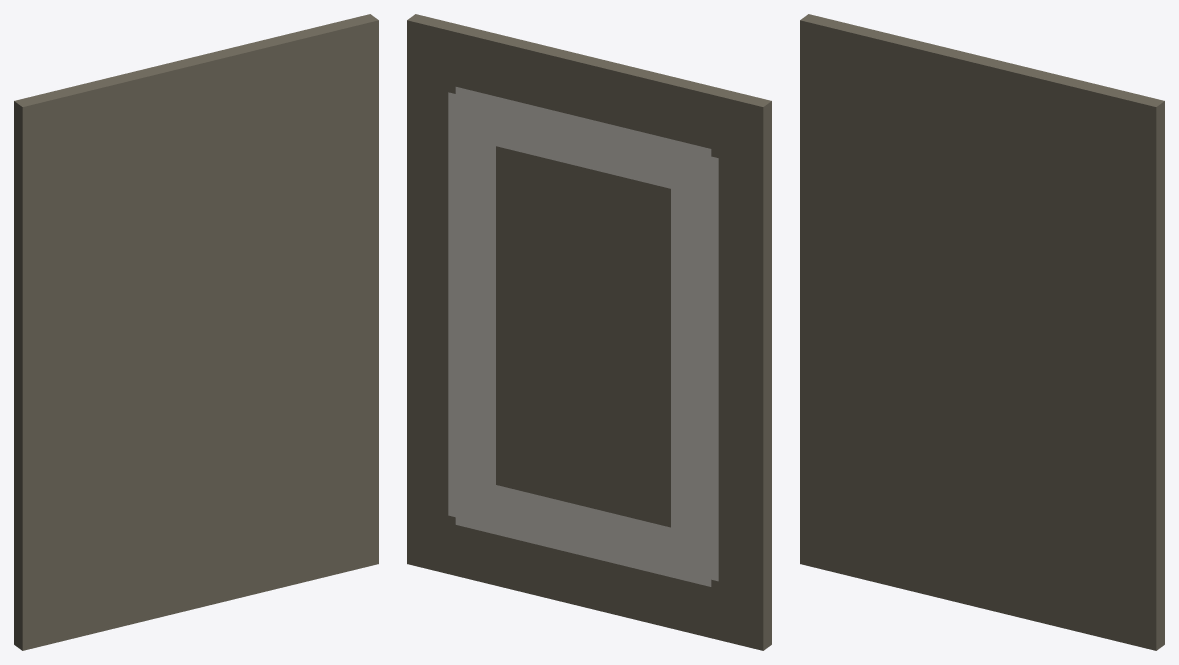
Rendered from stair_digit_0.glb.
3 renders of one model, left to right at view 1: azimuth 30°, elevation 25°; view 2: azimuth 150°, elevation 25°; view 3: azimuth 330°, elevation 25°, orthographic.
Parts seen in each view (by area): view 1: stair_digit_0; view 2: stair_digit_0; view 3: stair_digit_0.
Boxes of the visible parts, bbox=[...] form: stair_digit_0: bbox=[14, 14, 378, 650]; stair_digit_0: bbox=[407, 14, 771, 650]; stair_digit_0: bbox=[800, 14, 1164, 650].
Size of the model in its own units: 0.24 by 0.35 by 0.012.
2 materials, 2 textured.
